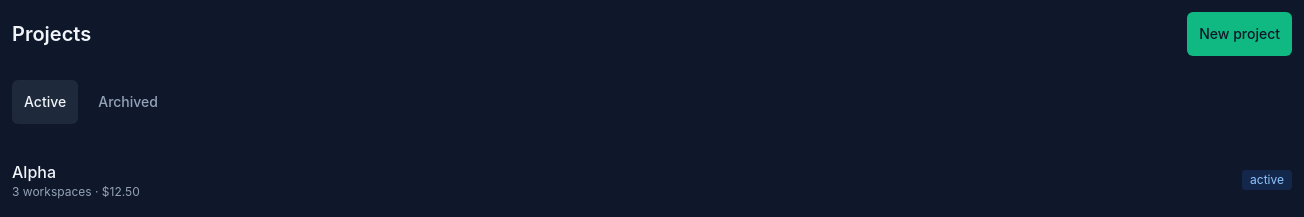
Test: Projects › renders each project's workspace count and total spend from the list API
This screenshot has width=1304, height=217.
Expected: the text with test id "project-stats-alpha" shows "3 workspaces", [12,184,140,200]
Expected: the text with test id "project-stats-alpha" shows "$12.50", [102,184,140,199]
Step 1. Click the tab with test id "project-tab-archived" → (128,102), box [86,80,170,124]
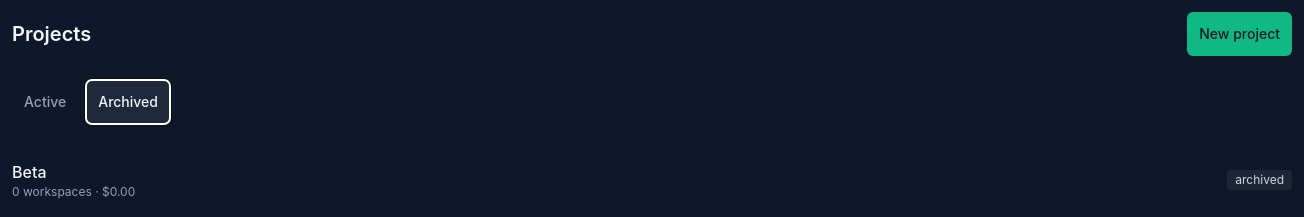
Result: the text with test id "project-stats-beta" shows "0 workspaces" at [12,184,135,200]
Result: the text with test id "project-stats-beta" shows "$0.00" at [102,184,135,199]
